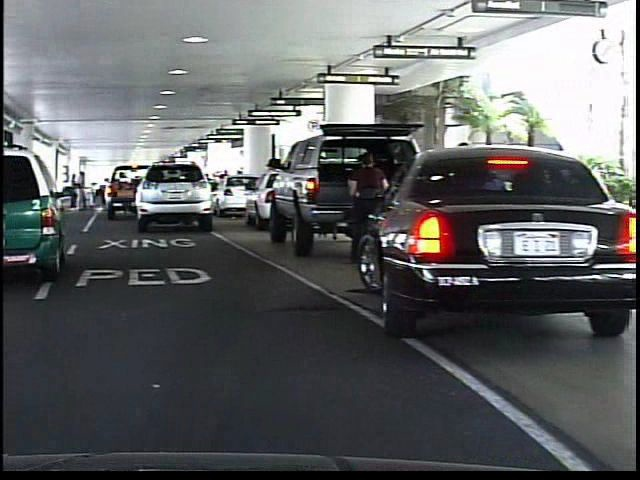person: (339, 148, 390, 259)
